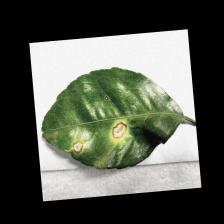canker: (62, 108, 146, 178)
